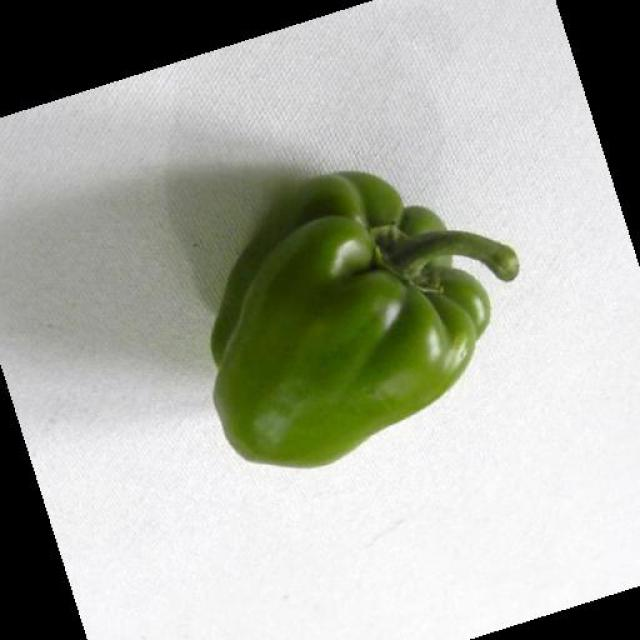Fresh_Capsicum: (188, 190, 538, 490)
